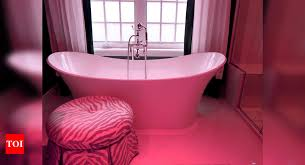bathub: (44, 48, 227, 130)
